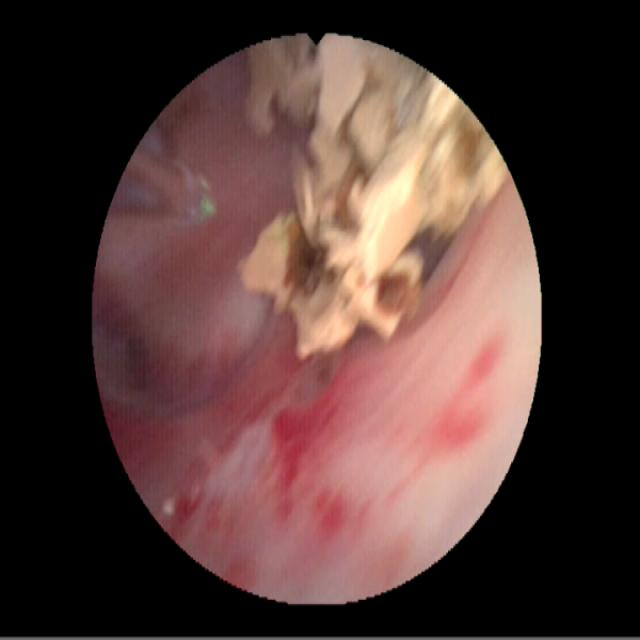stone: (239, 39, 507, 359)
tissue: (105, 66, 531, 588)
